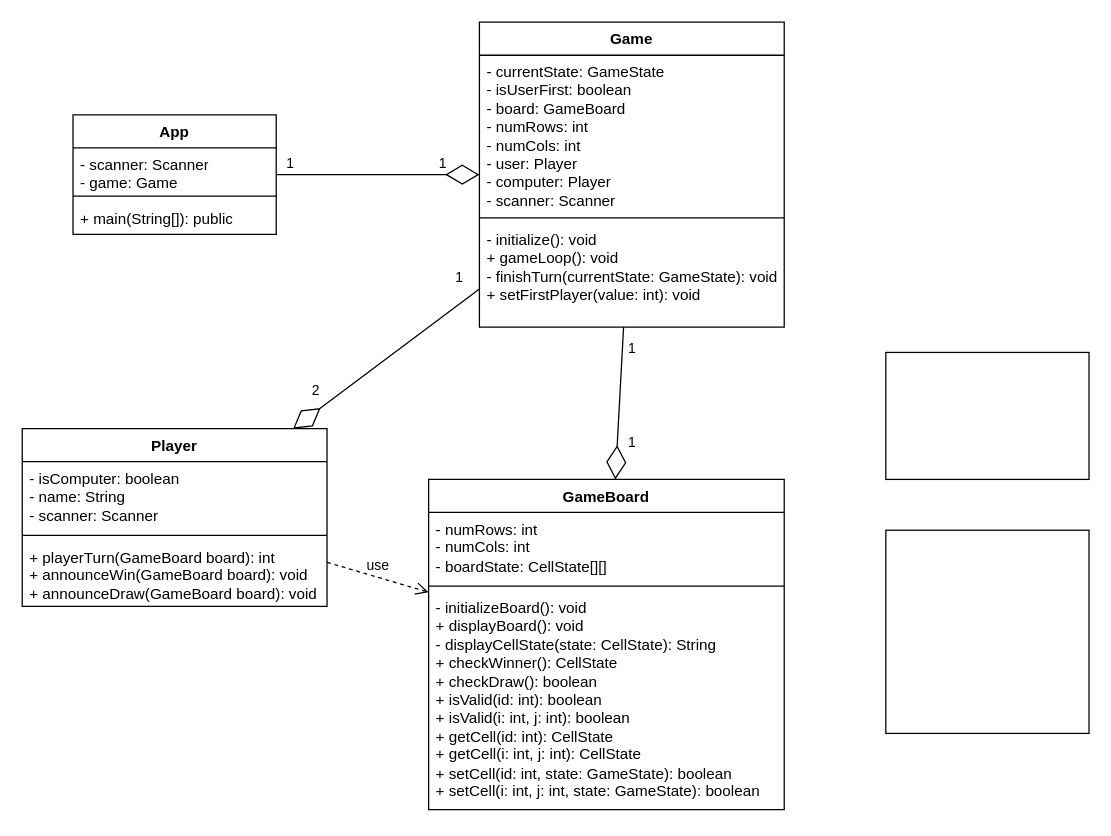
Some shapes in this 1111 by 836 pixel diagram are drawn without their labels. The centre of each missing label's shape, as x and y in pixels:
<<enumeration>> CellState EMPTY USER COMPUTER: point (987, 415)
<<enumeration>> GameState INITIALIZE USER COMPUTER WIN LOSE DRAW END: point (987, 631)
